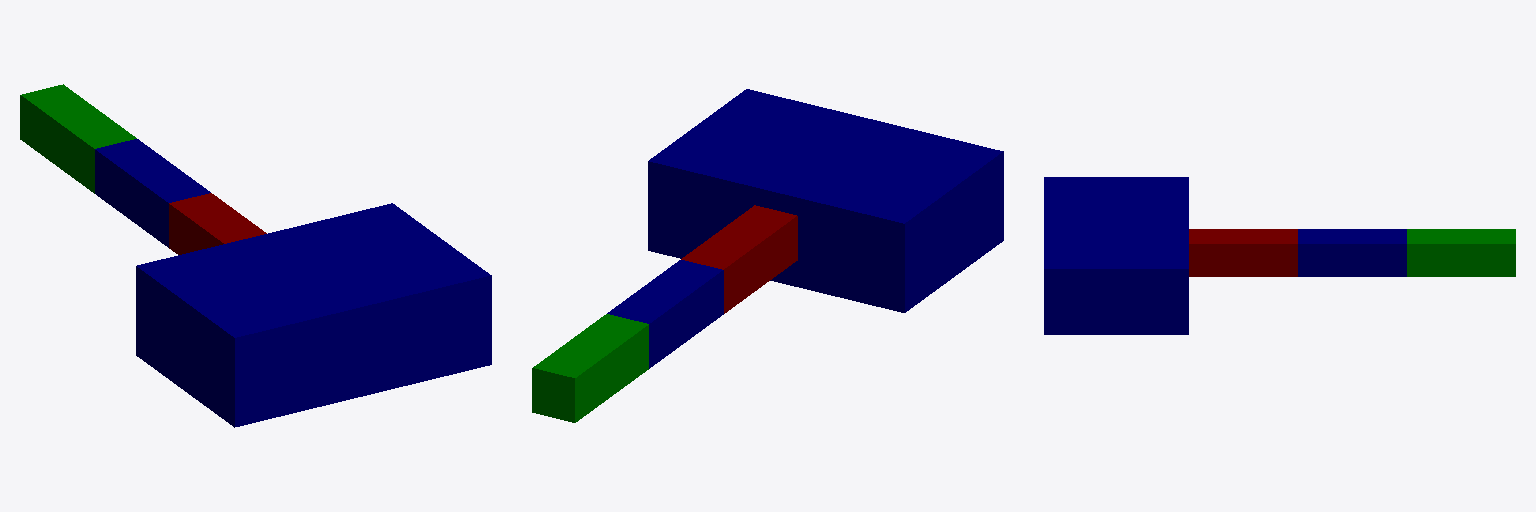
The robot description file, URDF, robot "hexapod":
<?xml version="1.0"?>
<robot name="hexapod">

    <material name="blue">
        <color rgba="0 0 0.5 1" />
    </material>

    <material name="red">
        <color rgba="0.5 0.0 0.0 1" />
    </material>

    <material name="green">
        <color rgba="0.0 0.5 0.0 1" />
    </material>



    <link name="base_footprint" />

    <link name="base_link">
        <visual>
            <geometry>
                <box size="0.3 0.2 0.10" />
            </geometry>
            <origin xyz="0 0 0" rpy="0 0 0" />
            <material name="blue" />
        </visual>
    </link>


    <joint name="base_footprint_to_base_link_joint" type="fixed">
        <parent link="base_footprint" />
        <child link="base_link" />
        <origin xyz="0.0 0 0.15" rpy="0 0 0" />
    </joint>


    <link name="coxa_link">
        <visual>
            <geometry>
                <box size="0.05 0.15 0.05" />
            </geometry>
            <origin xyz="0 0.075 0" rpy="0 0 0" />
            <material name="red" />
        </visual>
    </link>

    <joint name="base_link_to_coxa_link_joint" type="revolute">
        <parent link="base_link" />
        <child link="coxa_link" />
        <origin xyz="0.0  0.1 0.005" rpy="0 0 0" />
        <axis xyz="0 0 1" />
        <limit lower="-1.57" upper="1.57" 
                effort="0.176" velocity="0.166" />
    </joint>

    <link name="pata1_link">
        <visual>
            <geometry>
                <box size="0.05 0.15 0.05" />
            </geometry>
            <origin xyz="0 0.075 0" rpy="0 0 0" />
            <material name="blue" />
        </visual>
    </link>

    <joint name="coxa_link_to_pata1_link_joint" type="revolute">
        <parent link="coxa_link" />
        <child link="pata1_link" />
        <origin xyz="0.0  0.15 0.0" rpy="0 0 0" />
        <axis xyz="1 0 0" />
        <limit lower="-1.57" upper="1.57" 
                effort="0.176" velocity="0.166" />
    </joint>


    <link name="pata2_link">
        <visual>
            <geometry>
                <box size="0.05 0.15 0.05" />
            </geometry>
            <origin xyz="0 0.075 0" rpy="0 0 0" />
            <material name="green" />
        </visual>
    </link>

    <joint name="pata1_link_to_pata2_link_joint" type="revolute">
        <parent link="pata1_link" />
        <child link="pata2_link" />
        <origin xyz="0.0  0.15 0.0" rpy="0 0 0" />
        <axis xyz="1 0 0" />
        <limit lower="-1.57" upper="1.57" 
                effort="0.176" velocity="0.166" />
    </joint>


</robot>

--- Facts derived from the render (not from the file) ---
3 views of the same robot in one strip: view 1: azimuth 30°, elevation 25°; view 2: azimuth 150°, elevation 25°; view 3: azimuth 270°, elevation 25° (orthographic).
Robot: hexapod — 5 links, 4 joints (3 revolute, 1 fixed); root link base_footprint; default pose: every joint at zero.
Links seen in each view (by area): view 1: base_link, pata2_link, pata1_link, coxa_link; view 2: base_link, pata2_link, pata1_link, coxa_link; view 3: base_link, coxa_link, pata1_link, pata2_link.
Link boxes in pixels (bbox=[...]): base_link: bbox=[136, 203, 491, 427]; pata2_link: bbox=[20, 84, 136, 193]; pata1_link: bbox=[95, 139, 210, 247]; coxa_link: bbox=[169, 193, 266, 254]; base_link: bbox=[648, 89, 1003, 312]; pata2_link: bbox=[532, 314, 648, 422]; pata1_link: bbox=[607, 260, 723, 368]; coxa_link: bbox=[681, 205, 797, 313]; base_link: bbox=[1044, 177, 1188, 334]; coxa_link: bbox=[1189, 229, 1297, 276]; pata1_link: bbox=[1298, 229, 1406, 276]; pata2_link: bbox=[1407, 229, 1515, 276].
Bounding box of the posed robot: 0.3 × 0.65 × 0.1 m (x, y, z).
Geometry: primitives only (box / cylinder / sphere), no mesh files.